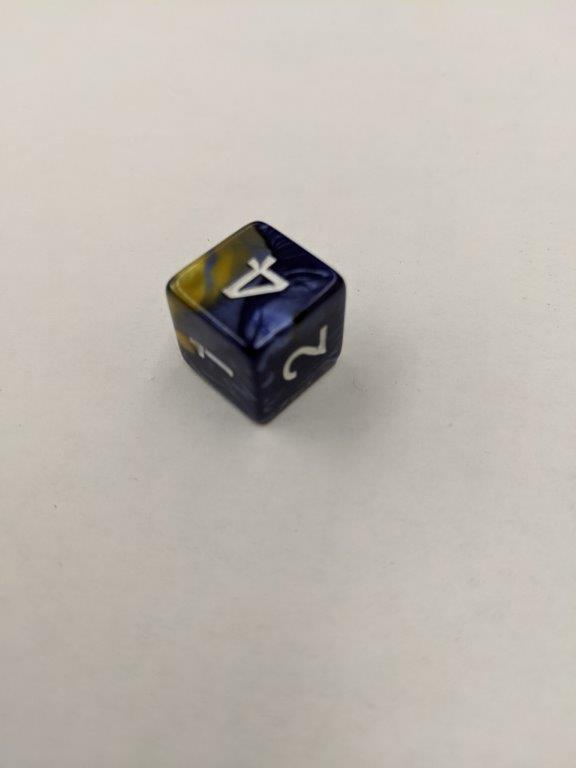d6-4: (165, 220, 347, 422)
